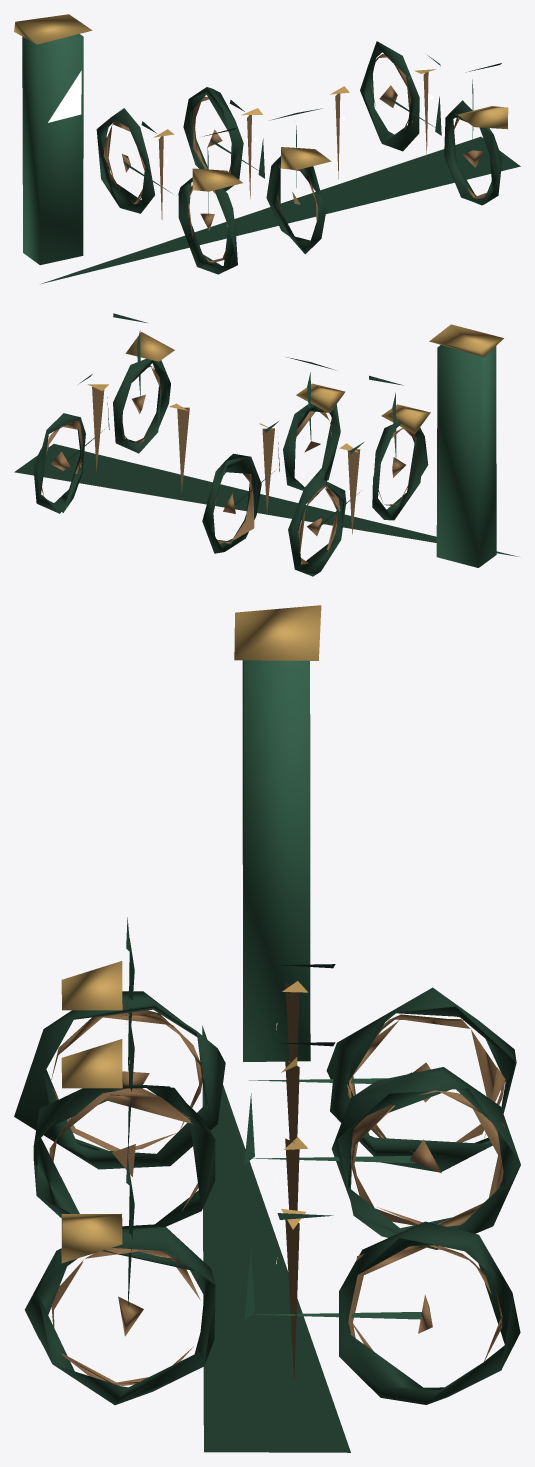
File: lod_bike_share_dock.glb
The picture shows the model from 3 angles, top to bottom: view 1: azimuth 30°, elevation 25°; view 2: azimuth 150°, elevation 25°; view 3: azimuth 270°, elevation 25°; orthographic projection. The views are drawn at different scales.
Visible parts, largest first — view 1: bike_share_dock; view 2: bike_share_dock; view 3: bike_share_dock.
Boxes of the visible parts, x1=… form: bike_share_dock: x1=14, y1=14, x2=520, y2=284; bike_share_dock: x1=14, y1=313, x2=518, y2=576; bike_share_dock: x1=14, y1=605, x2=520, y2=1452.
Bounding box in the file's own units: 3.4 × 1.64 × 1.7.
